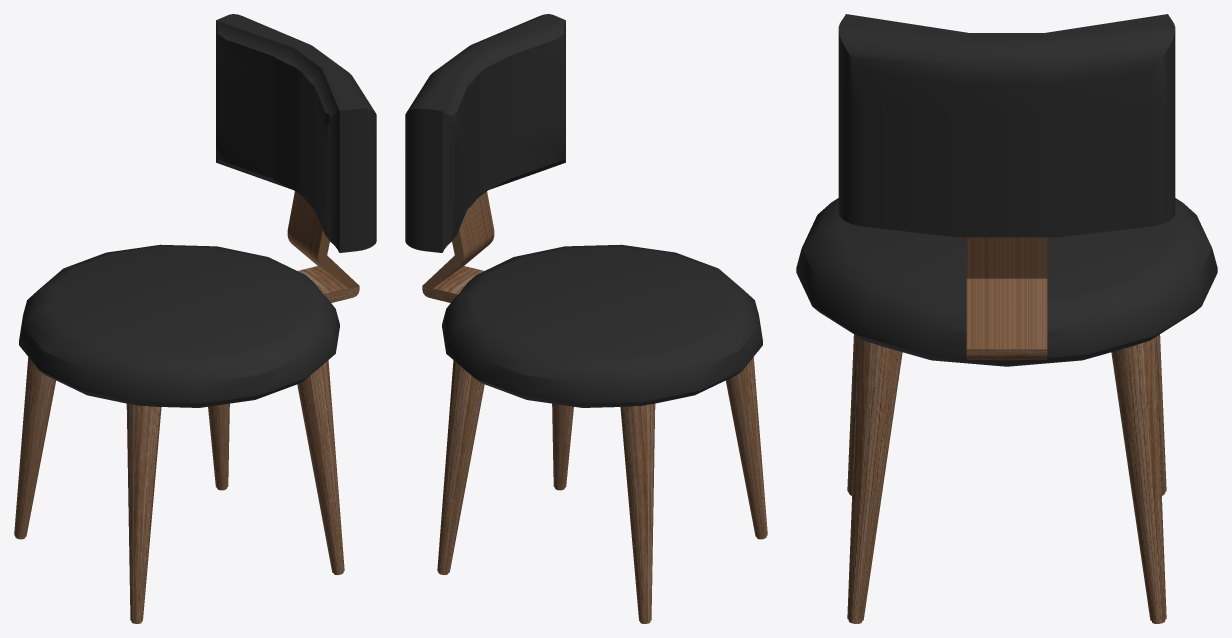
The model's file is FixedChair.fbx.
3 views of the same model, side by side, from view 1: azimuth 30°, elevation 25°; view 2: azimuth 150°, elevation 25°; view 3: azimuth 270°, elevation 25° (orthographic). The views are drawn at different scales.
Parts seen in each view (by area): view 1: Cylinder.001, Cube.001, Cylinder, Cube; view 2: Cylinder.001, Cube.001, Cylinder, Cube; view 3: Cube.001, Cylinder.001, Cylinder, Cube.
Part boxes in pixels (<box>): Cylinder.001: <box>19,244,339,407</box>; Cube.001: <box>216,14,376,252</box>; Cylinder: <box>14,357,344,623</box>; Cube: <box>287,191,359,302</box>; Cylinder.001: <box>442,244,762,407</box>; Cube.001: <box>405,14,565,252</box>; Cylinder: <box>437,357,767,623</box>; Cube: <box>422,191,494,302</box>; Cube.001: <box>838,14,1175,237</box>; Cylinder.001: <box>796,198,1217,366</box>; Cylinder: <box>847,334,1166,623</box>; Cube: <box>966,237,1047,359</box>.
Bounding box in the file's own units: 5593 × 8164 × 5142.
Materials: 2 (1 with a texture image).
